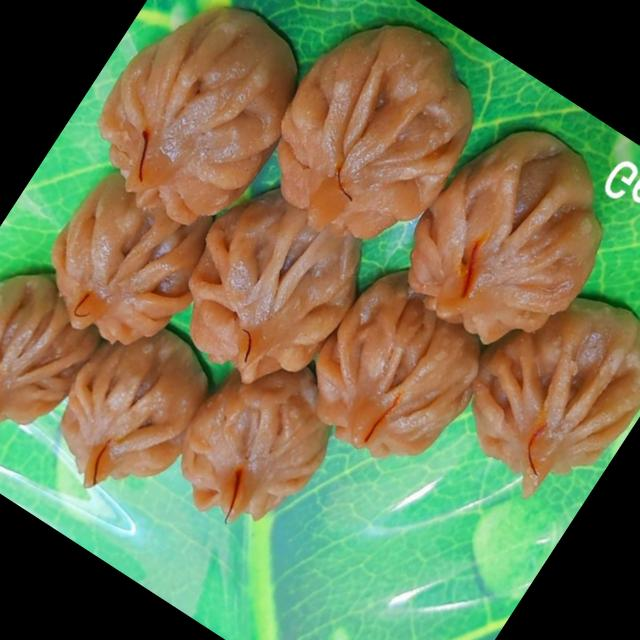modak: (372, 93, 640, 379), (238, 0, 506, 270), (51, 0, 325, 243), (421, 254, 640, 540), (0, 142, 237, 383), (123, 328, 354, 568), (158, 176, 388, 414), (4, 300, 226, 536), (286, 256, 504, 479), (0, 251, 109, 468)
